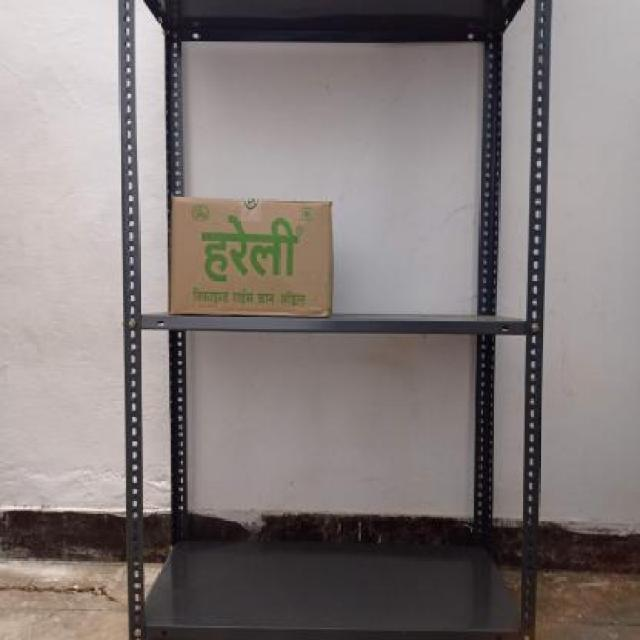box: (171, 194, 332, 317)
